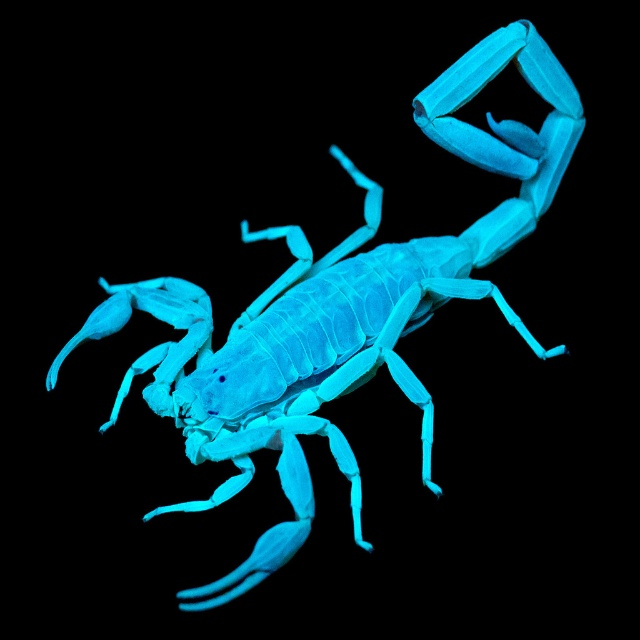Scorpion: (46, 19, 586, 610)
